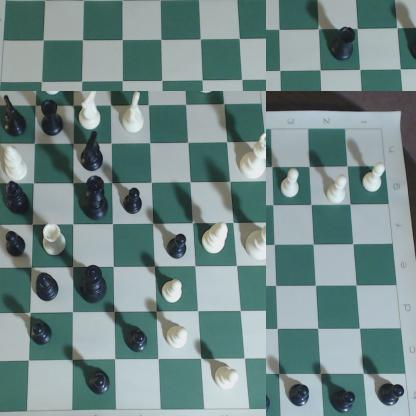black-bishop: (3, 182, 35, 216), (31, 268, 61, 303)
black-king: (82, 265, 112, 305)
black-knight: (1, 93, 30, 140), (83, 131, 107, 176)
black-pawn: (120, 187, 148, 221), (378, 377, 407, 409), (27, 321, 55, 352), (169, 227, 193, 263), (127, 329, 154, 360), (85, 371, 114, 399), (332, 388, 358, 416), (288, 381, 312, 409), (5, 229, 28, 258), (267, 388, 273, 416)
black-queen: (83, 174, 113, 223)
black-rook: (37, 99, 67, 141), (331, 22, 357, 67)
white-bishop: (1, 144, 34, 187), (203, 218, 233, 264)
white-king: (245, 211, 266, 264)
white-knight: (76, 92, 105, 134), (123, 92, 149, 137)
white-pawn: (166, 319, 203, 368), (212, 366, 251, 402), (358, 164, 394, 198), (163, 272, 191, 312), (280, 162, 306, 205), (325, 175, 354, 206)
white-queen: (241, 133, 266, 183)
white-rook: (41, 219, 74, 262), (195, 92, 226, 101)
